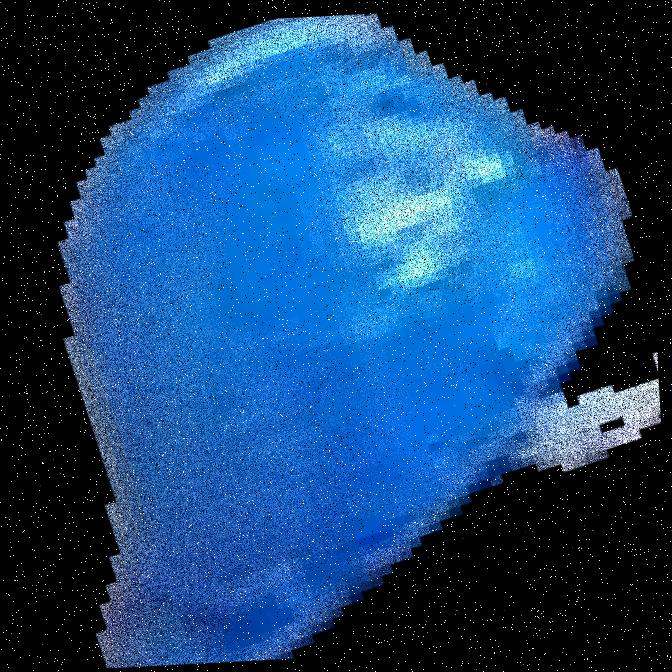Capacete: (137, 0, 361, 671)
